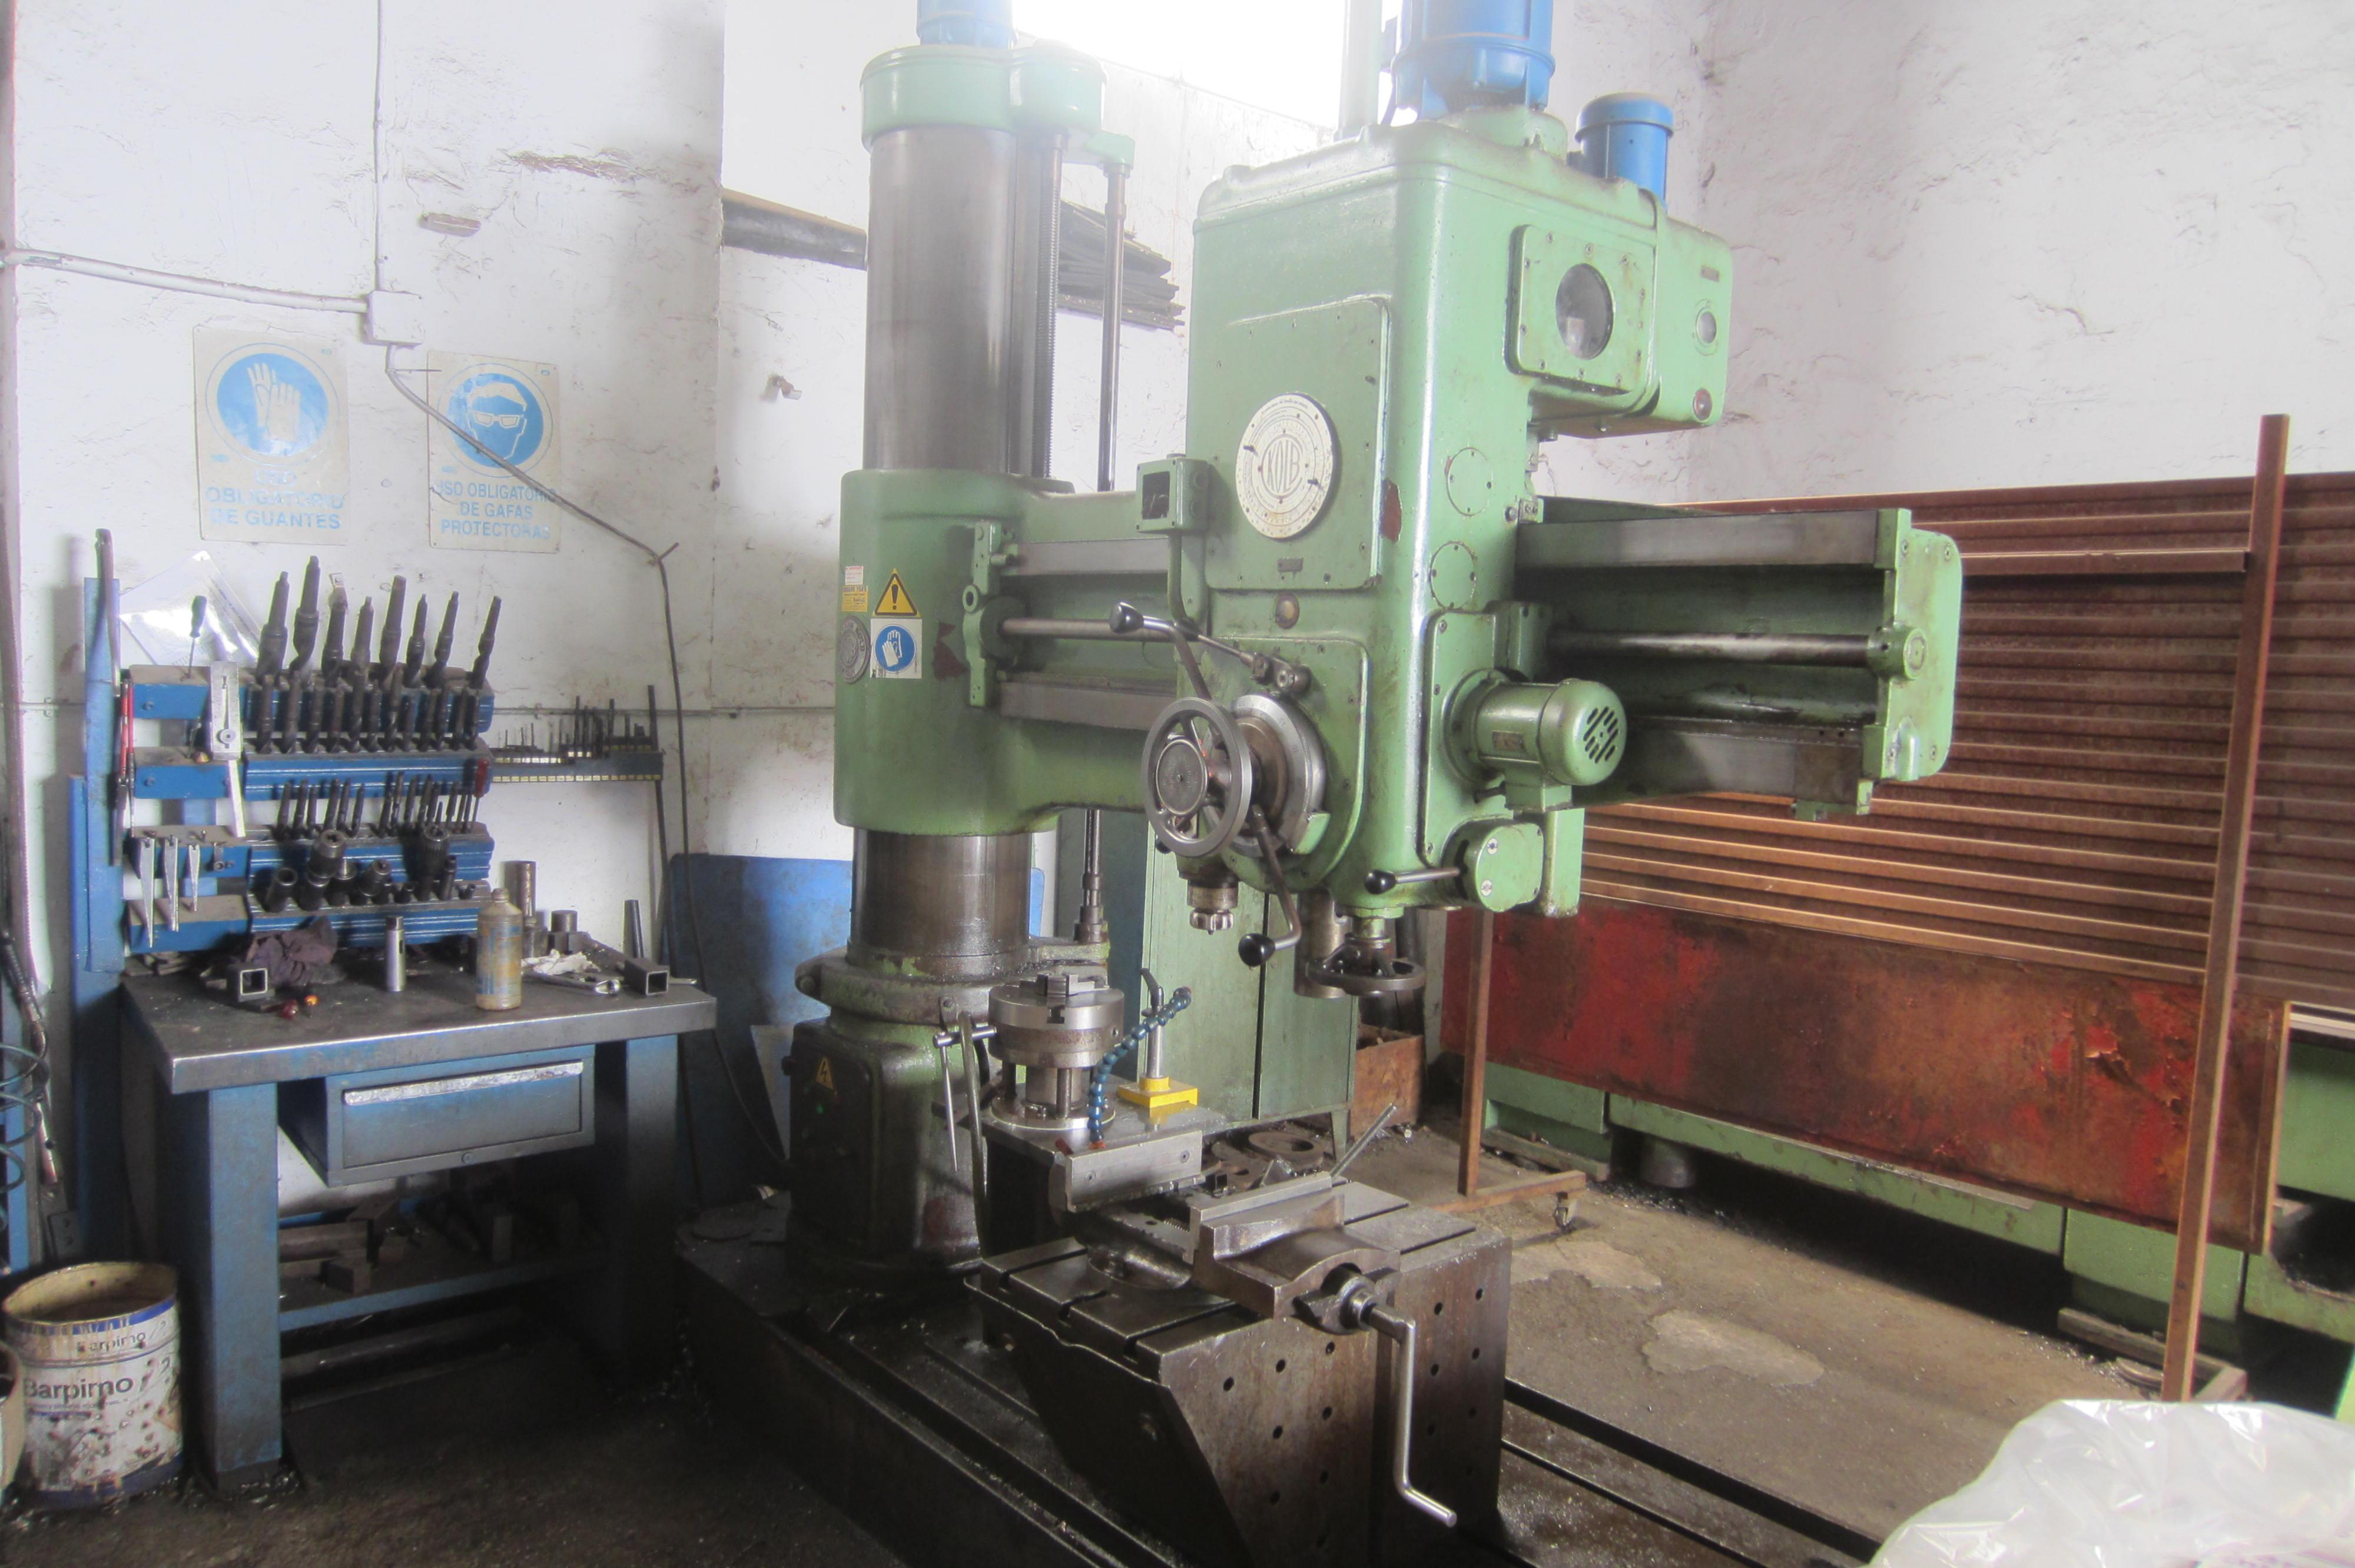falta_resguardo: (1286, 882, 1351, 1008)
sin_indicador_emergencia: (850, 700, 971, 808)
